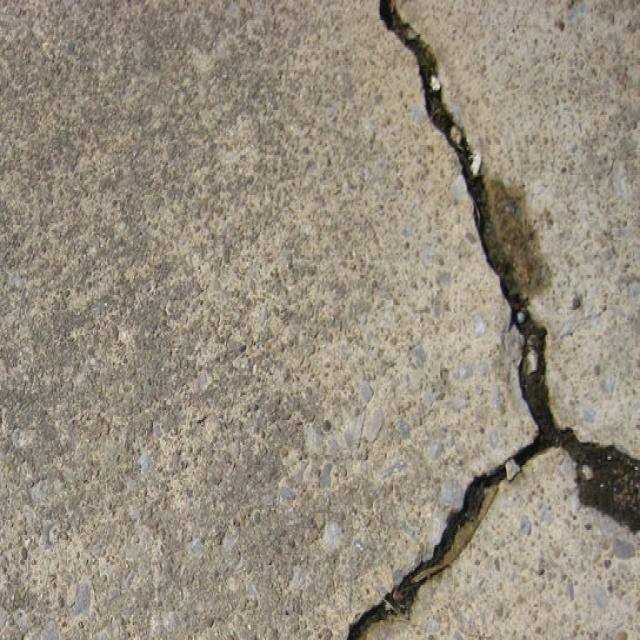Radial: (280, 0, 640, 638)
